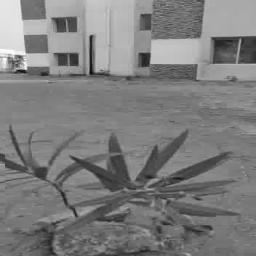OLEANDER: (6, 125, 242, 226)
